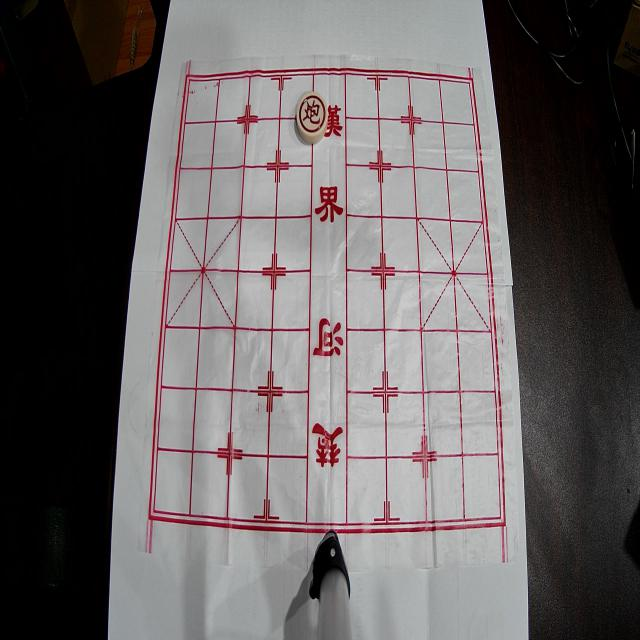red-cannon: (296, 92, 328, 144)
